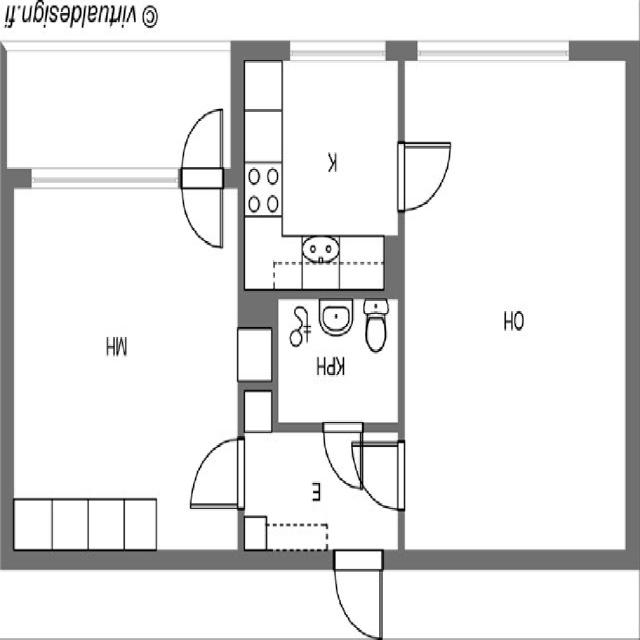door: (398, 140, 452, 216), (334, 561, 384, 640), (191, 432, 243, 507), (180, 178, 226, 250), (182, 104, 224, 173), (321, 423, 364, 490)
window: (417, 42, 579, 64), (29, 164, 182, 187), (288, 40, 391, 66)
zone: (398, 51, 632, 570), (10, 182, 241, 557), (245, 55, 402, 294), (241, 425, 396, 558), (277, 296, 399, 426)
